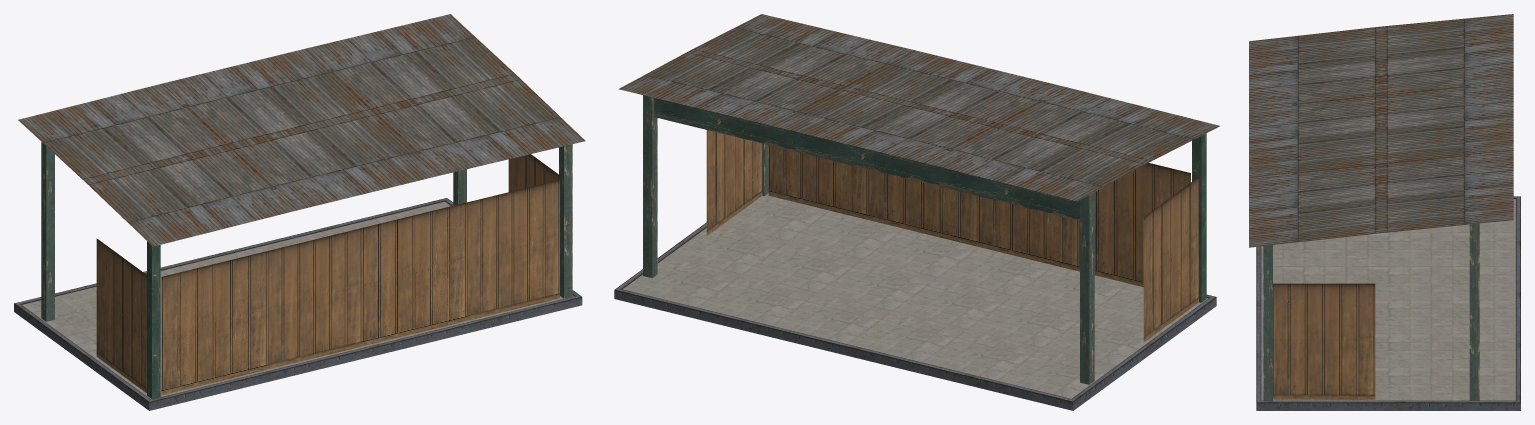
The model's file is Building_BcTz01_lod2.glb.
3 views of the same model, side by side, from view 1: azimuth 30°, elevation 25°; view 2: azimuth 150°, elevation 25°; view 3: azimuth 270°, elevation 25° (orthographic). The views are drawn at different scales.
Parts seen in each view (by area): view 1: xiutz_bc_tz_01_lod2_0; view 2: xiutz_bc_tz_01_lod2_0; view 3: xiutz_bc_tz_01_lod2_0.
Part boxes in pixels (left/top/right/bottom): xiutz_bc_tz_01_lod2_0: left=14, top=14, right=585, bottom=410; xiutz_bc_tz_01_lod2_0: left=614, top=14, right=1219, bottom=410; xiutz_bc_tz_01_lod2_0: left=1249, top=14, right=1520, bottom=410.
Bounding box in the file's own units: 13.19 × 5.7 × 7.33.
Materials: 2 (2 with a texture image).
